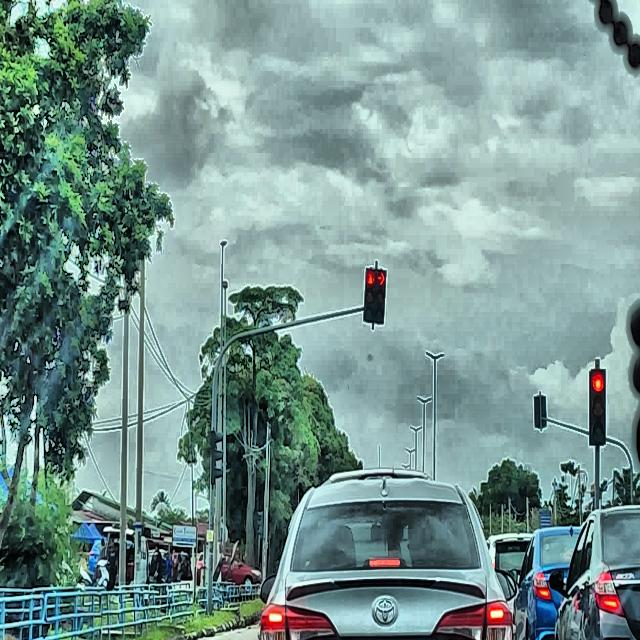red: (589, 368, 606, 445), (363, 266, 376, 322), (375, 268, 386, 324)
